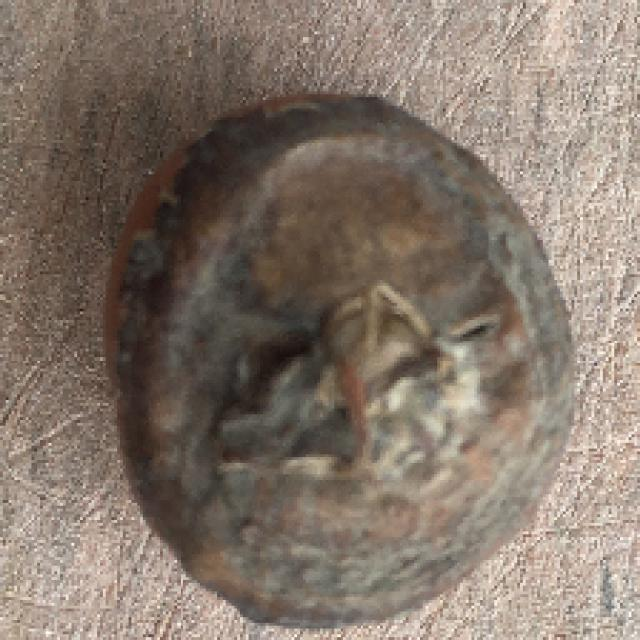damagedHazelnut: (101, 82, 579, 631)
